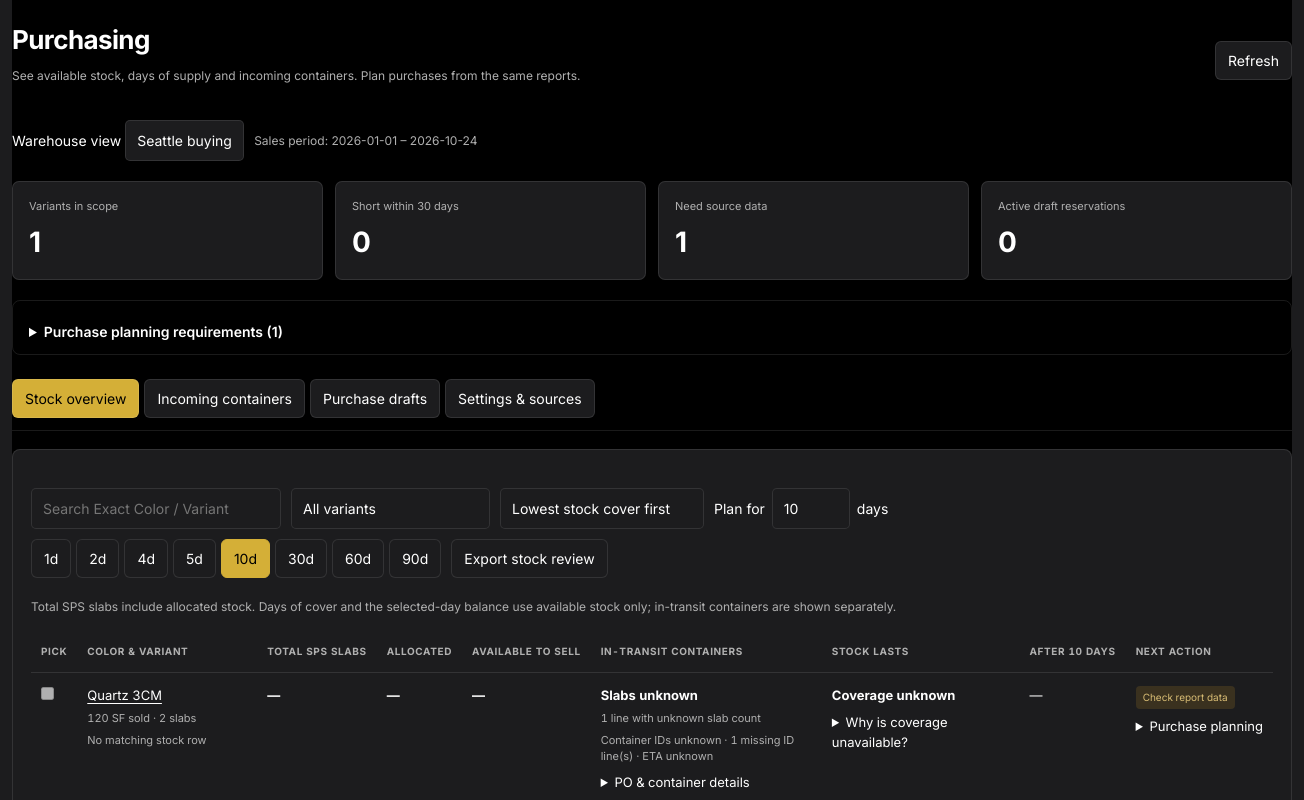
Test: independent purchasing resources › shows missing container identity without claiming zero containers
This screenshot has width=1304, height=800.
Expected: the button "Quartz 3CM" is shown, [87,686,162,705]
Expected: the text "Container IDs unknown · 1 missing ID line(s) · ETA unknown" is shown, [601,732,812,764]
Click the button "Incoming containers" at (225, 398), box [144,378,305,418]
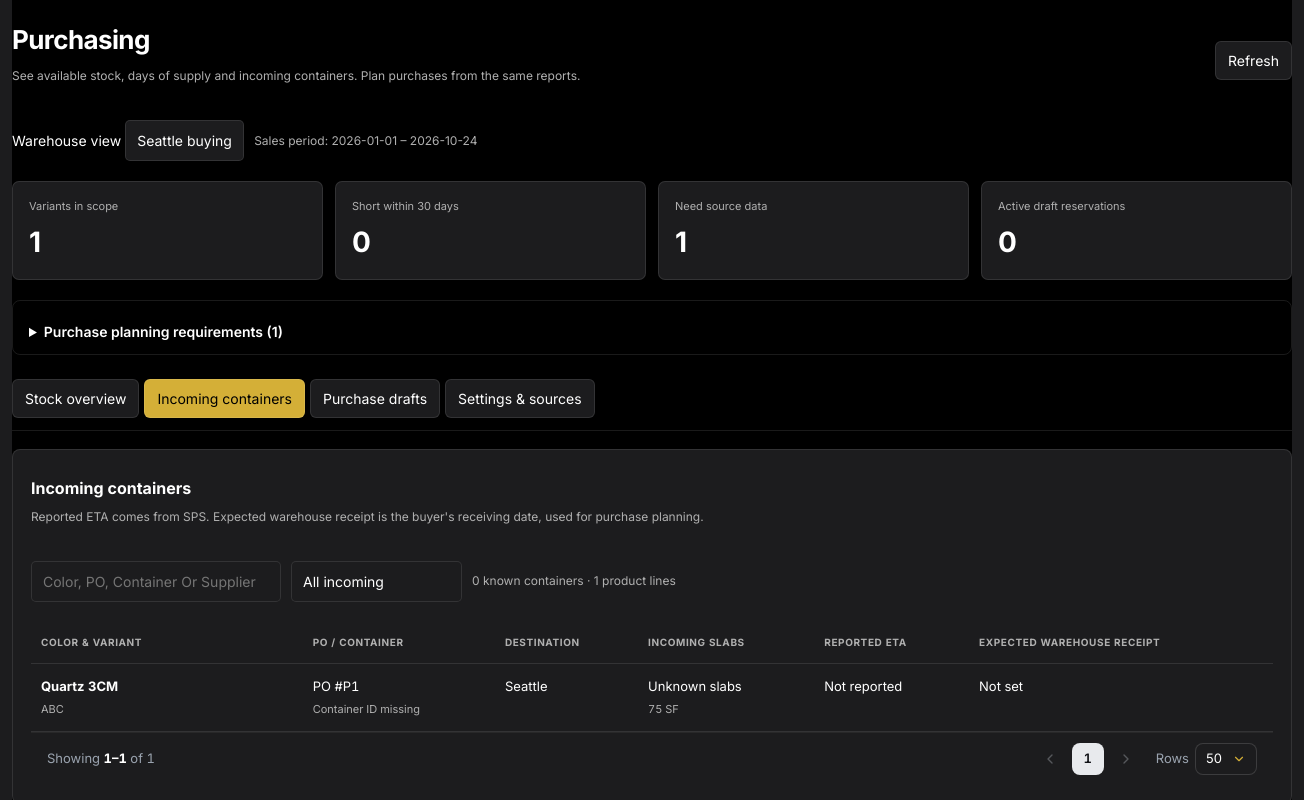
Expected: the text "Container ID missing" is shown, [313,702,420,716]
Expected: the text "Unknown slabs" is shown, [648,678,742,694]
